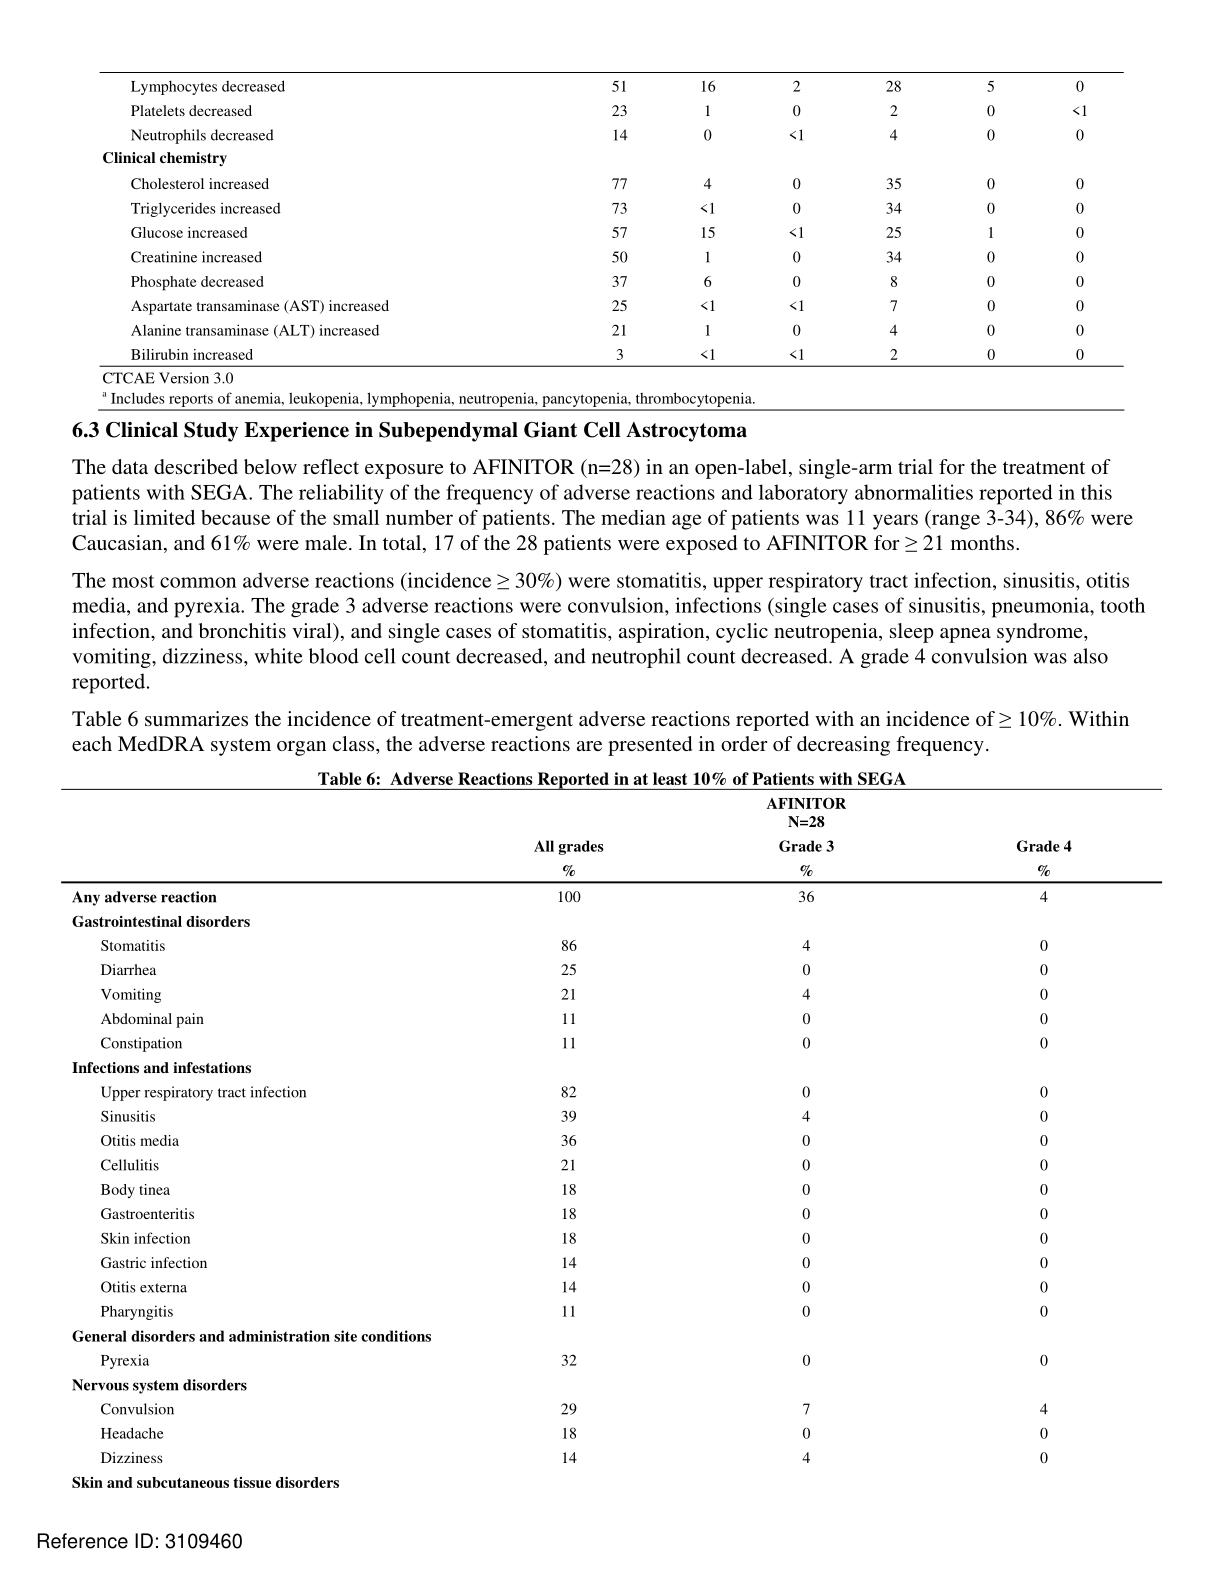partial_lined_merged_cells: (60, 788, 1164, 1517), (94, 69, 1129, 413)
